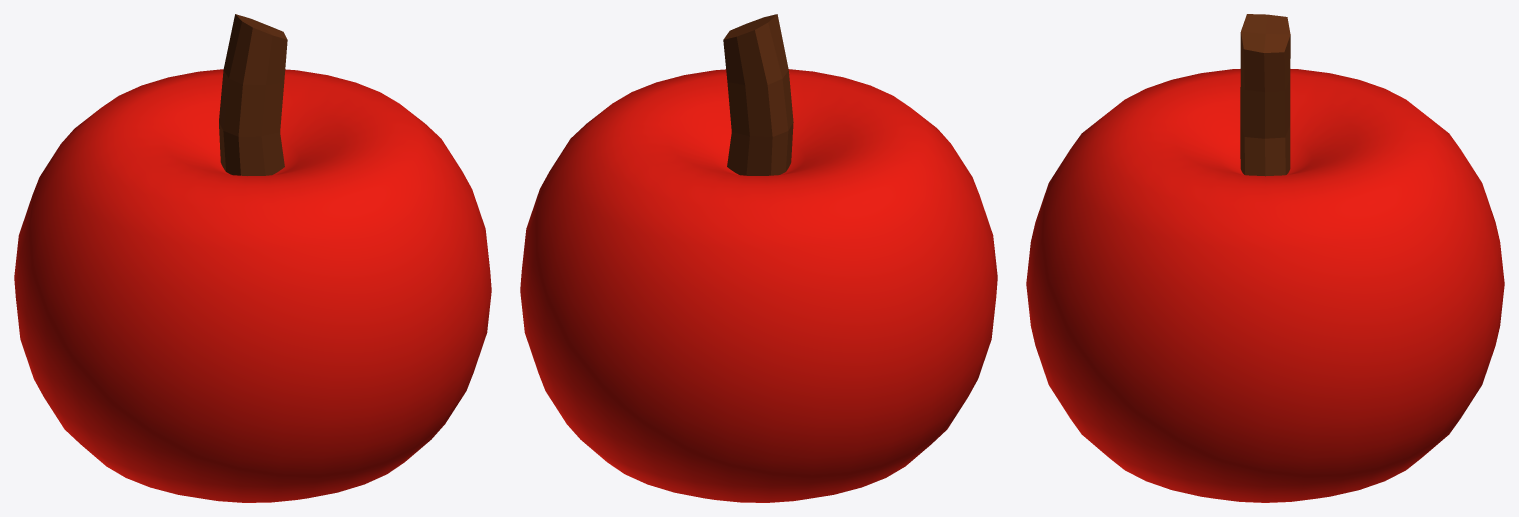
File: apple.fbx
3 views of the same model, side by side, from view 1: azimuth 30°, elevation 25°; view 2: azimuth 150°, elevation 25°; view 3: azimuth 270°, elevation 25° (orthographic).
Parts seen in each view (by area): view 1: Sphere, Cube; view 2: Sphere, Cube; view 3: Sphere, Cube.
Boxes of the visible parts, left/top/right/bottom form: Sphere: left=14, top=69, right=491, bottom=502; Cube: left=219, top=14, right=287, bottom=175; Sphere: left=520, top=69, right=997, bottom=502; Cube: left=723, top=14, right=793, bottom=175; Sphere: left=1026, top=69, right=1504, bottom=502; Cube: left=1240, top=14, right=1290, bottom=176.
Size of the model in its own units: 2 by 1.99 by 2.
